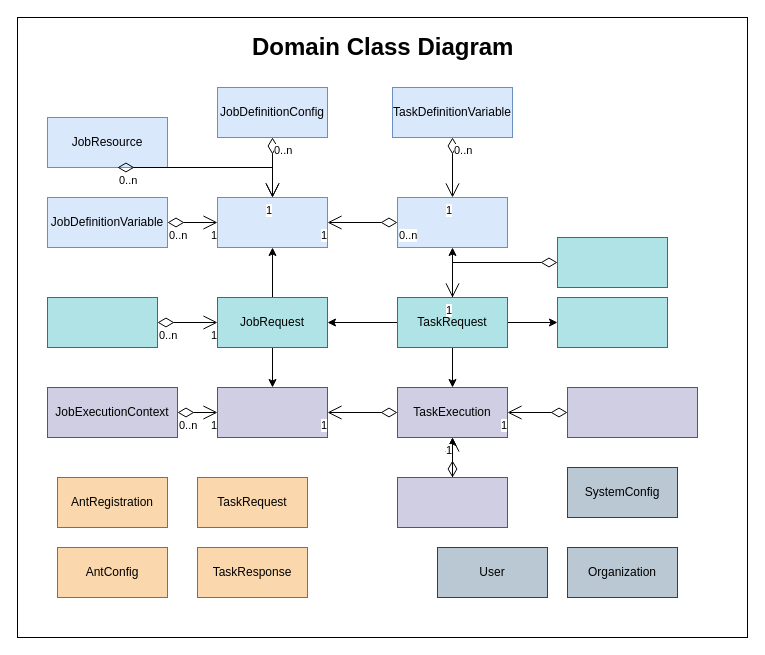
Image size: 765x655. Some labels were removed from this diagram. The shapes that lost their labels are listed below. From the top down, each one's centre as x and y in pixels, then its label:
(272,222): JobDefinition
(452,222): TaskDefinition
(612,262): VariableValue
(102,322): JobRequestParam
(612,322): ExecutorOptions
(272,412): JobExecution
(632,412): TaskExecutionContext
(452,502): Artifact
